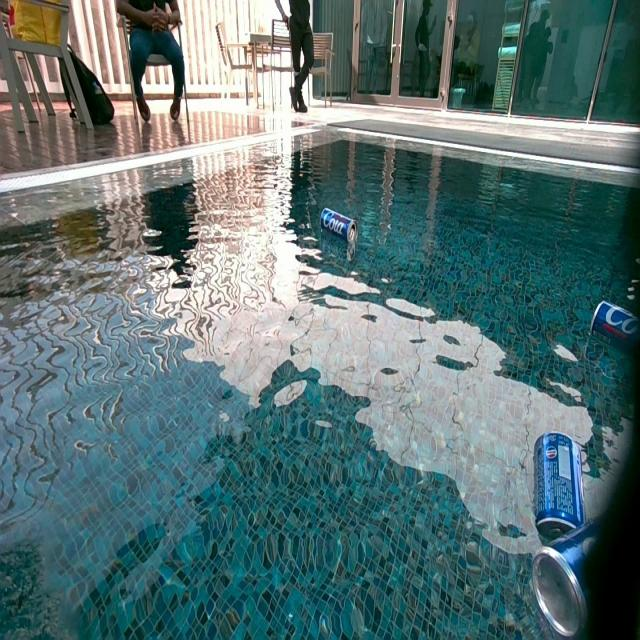Cans: (534, 506, 634, 626), (531, 433, 587, 545), (592, 303, 640, 359), (321, 206, 359, 243)
